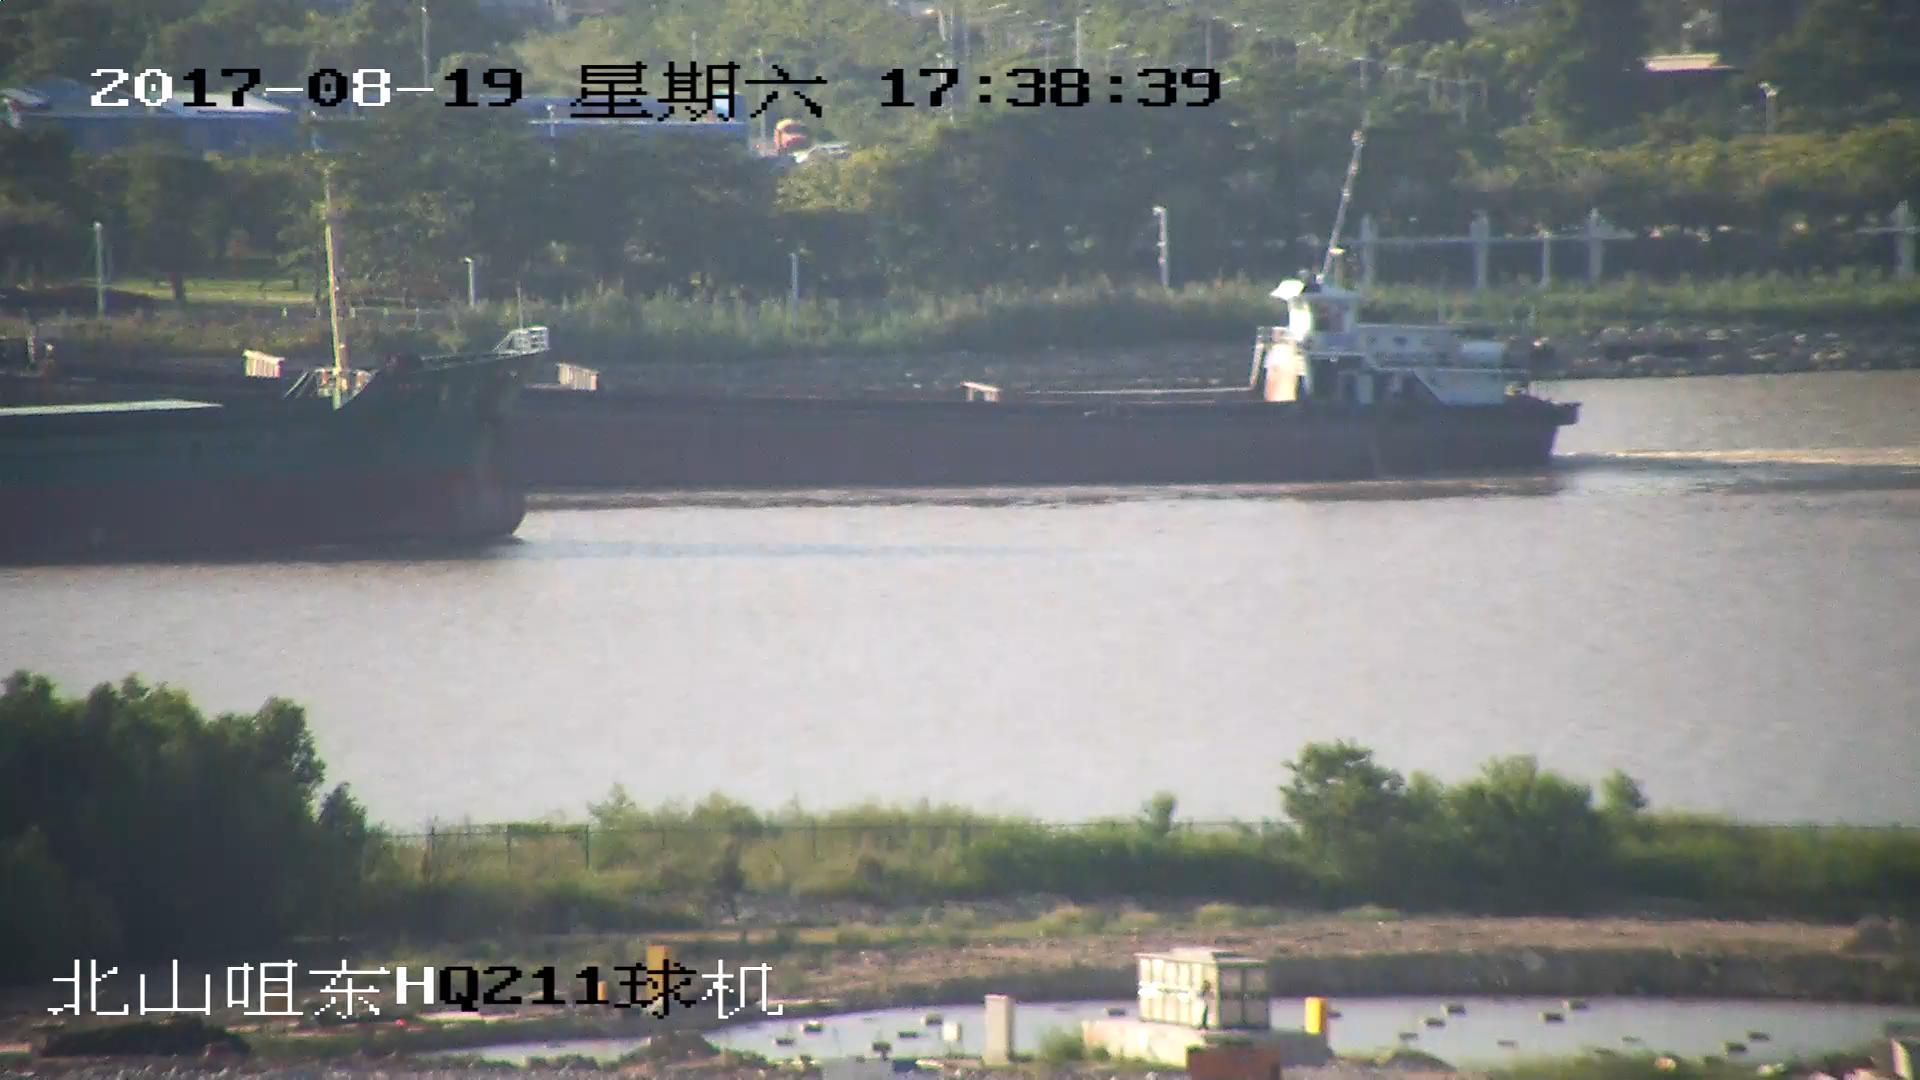Ship: (369, 270, 1567, 477), (3, 328, 541, 553)
